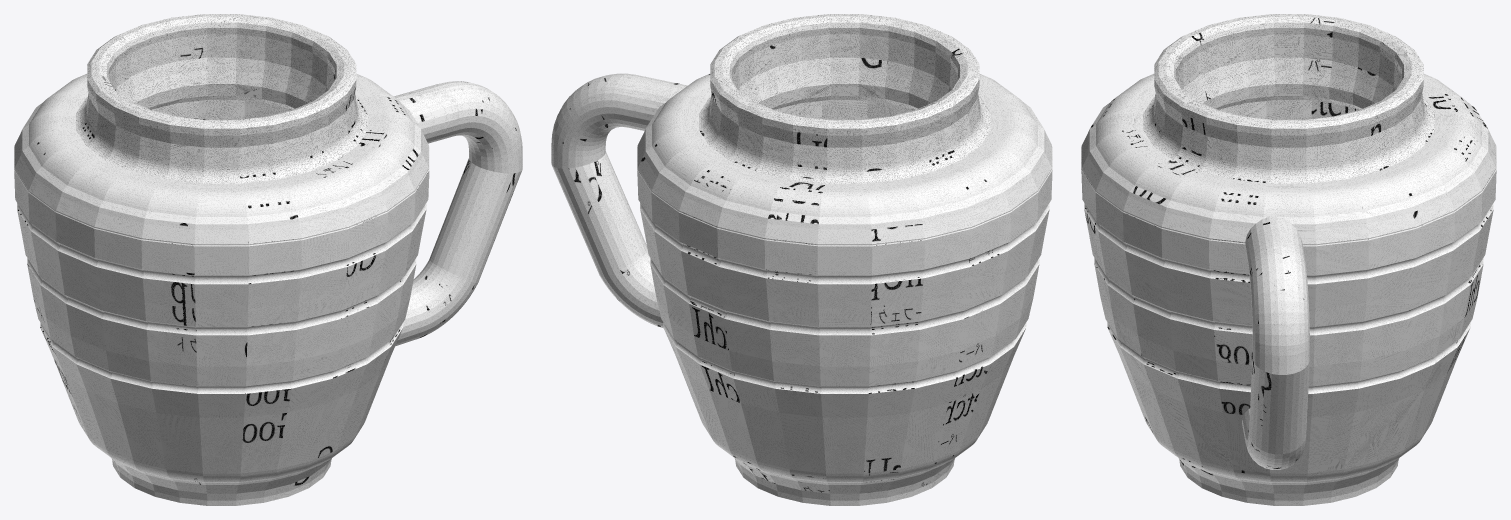
3 views of the same model, side by side, from view 1: azimuth 30°, elevation 25°; view 2: azimuth 150°, elevation 25°; view 3: azimuth 270°, elevation 25° (orthographic).
Visible parts, largest first — view 1: mesh1_mesh1-geometry, mesh2_mesh2-geometry; view 2: mesh1_mesh1-geometry, mesh2_mesh2-geometry; view 3: mesh1_mesh1-geometry, mesh2_mesh2-geometry.
Part boxes in pixels (box(x1,y1,x2,y2)): mesh1_mesh1-geometry: box(14, 14, 429, 505); mesh2_mesh2-geometry: box(394, 81, 522, 346); mesh1_mesh1-geometry: box(637, 14, 1052, 505); mesh2_mesh2-geometry: box(551, 73, 687, 328); mesh1_mesh1-geometry: box(1081, 14, 1496, 505); mesh2_mesh2-geometry: box(1242, 216, 1309, 469).
Size of the model in its own units: 0.6709 by 0.5382 by 0.5101.
